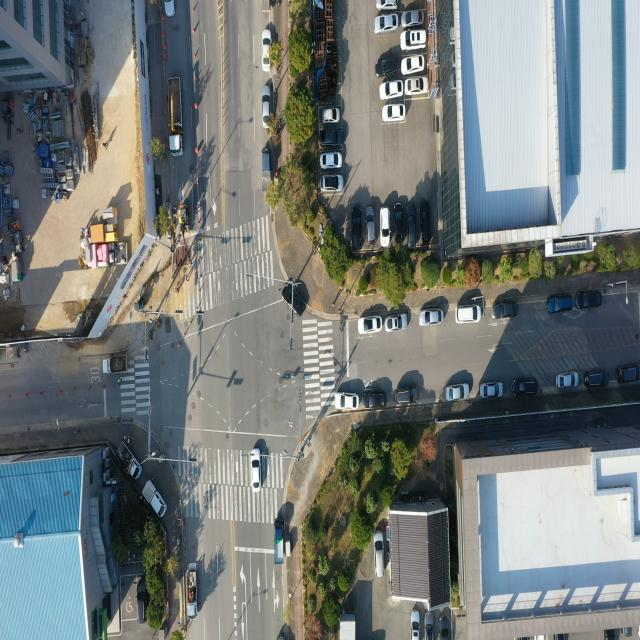car: (282, 284, 306, 320), (576, 290, 602, 309), (376, 12, 400, 32), (380, 81, 404, 101), (376, 58, 400, 78), (250, 449, 261, 492), (492, 303, 518, 321), (455, 306, 481, 324), (445, 383, 471, 401), (512, 379, 538, 396), (418, 310, 444, 327), (403, 56, 426, 75), (383, 104, 406, 123), (405, 30, 428, 49), (263, 29, 273, 72), (407, 76, 429, 95), (358, 316, 381, 334), (479, 382, 503, 399), (384, 315, 408, 332), (320, 175, 342, 193), (375, 534, 384, 578), (380, 207, 390, 246), (555, 373, 579, 389), (394, 388, 416, 405), (364, 207, 374, 244), (320, 129, 340, 147), (263, 86, 272, 124), (403, 10, 424, 26), (583, 369, 604, 385), (320, 152, 340, 168), (424, 611, 434, 640), (412, 611, 421, 640), (322, 107, 338, 123), (164, 0, 175, 20), (377, 0, 398, 10)
medium_truck: (167, 74, 183, 160)
small_truck: (116, 434, 141, 483), (141, 479, 166, 517), (187, 560, 201, 618), (100, 354, 129, 375), (275, 519, 286, 567), (261, 150, 272, 191)
